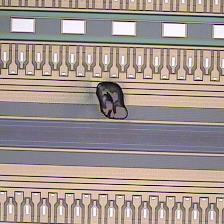PARTICLE: (94, 79, 132, 123)
